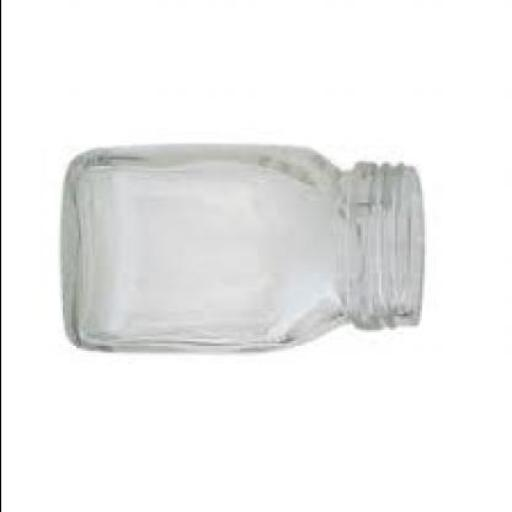glass: (64, 144, 426, 352)
